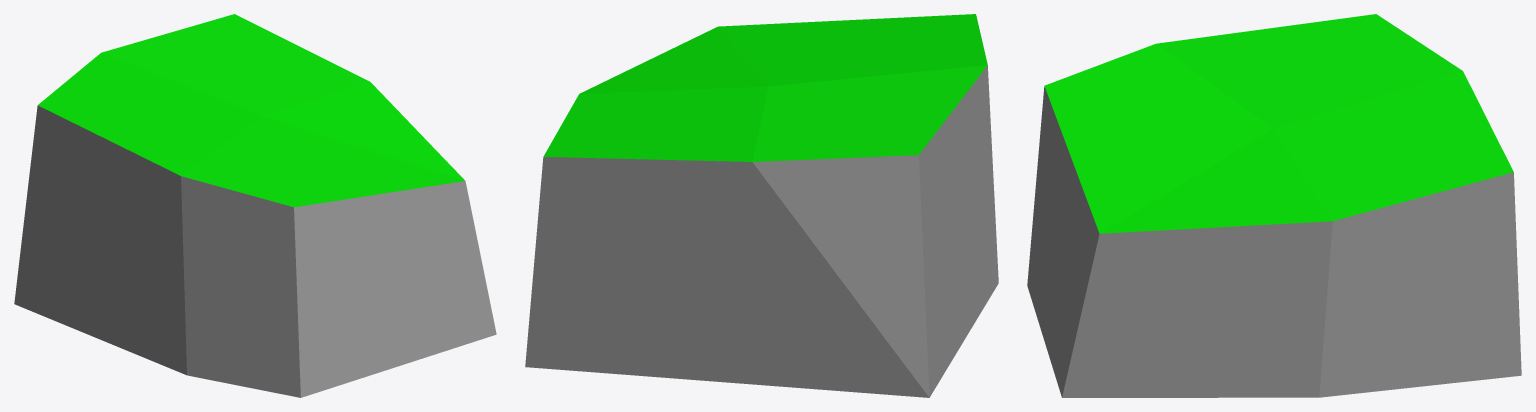
Rendered from rock_gen_mini_A.fbx.
3 renders of one model, left to right at view 1: azimuth 30°, elevation 25°; view 2: azimuth 150°, elevation 25°; view 3: azimuth 270°, elevation 25°, orthographic. The views are drawn at different scales.
Parts seen in each view (by area): view 1: rock_gen_mini_A; view 2: rock_gen_mini_A; view 3: rock_gen_mini_A.
Boxes of the visible parts, x1,y1,x2,y2 form: rock_gen_mini_A: (14,14,496,397); rock_gen_mini_A: (525,14,998,397); rock_gen_mini_A: (1027,14,1521,397).
Bounding box in the file's own units: 9.42 × 5.45 × 11.23.
